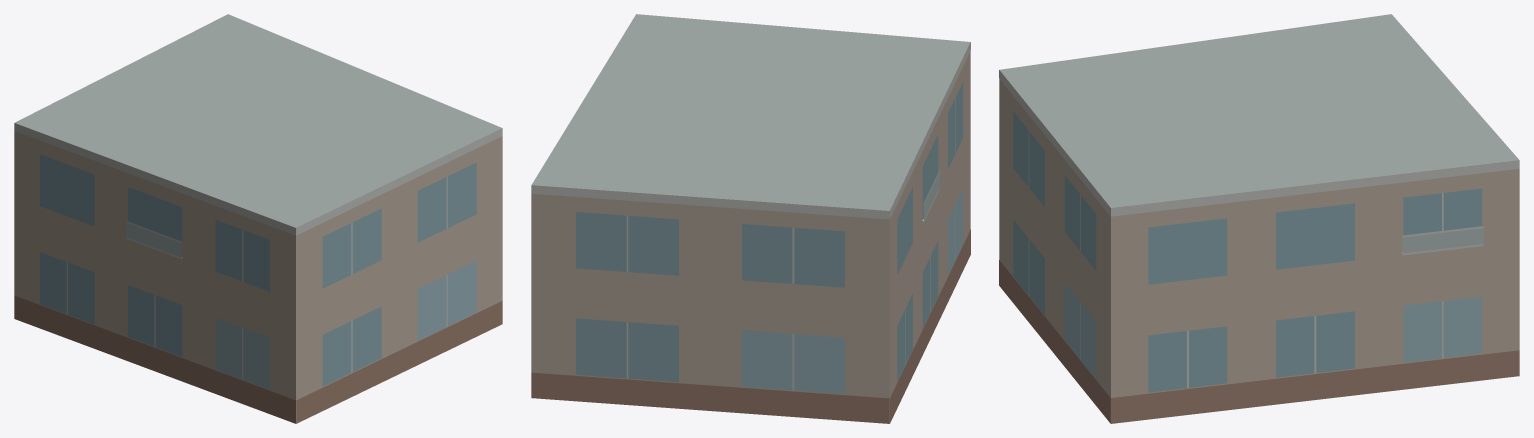
Rendered from survey-upis-32501777.glb.
3 views of the same model, side by side, from view 1: azimuth 30°, elevation 25°; view 2: azimuth 150°, elevation 25°; view 3: azimuth 270°, elevation 25° (orthographic). The views are drawn at different scales.
Parts seen in each view (by area): view 1: survey-upis-32501777.tmp; view 2: survey-upis-32501777.tmp; view 3: survey-upis-32501777.tmp.
Boxes of the visible parts, bbox=[...] form: survey-upis-32501777.tmp: bbox=[14, 14, 502, 423]; survey-upis-32501777.tmp: bbox=[531, 14, 970, 423]; survey-upis-32501777.tmp: bbox=[999, 14, 1519, 423].
Size of the model in its own units: 11.77 by 6.1 by 13.34.
